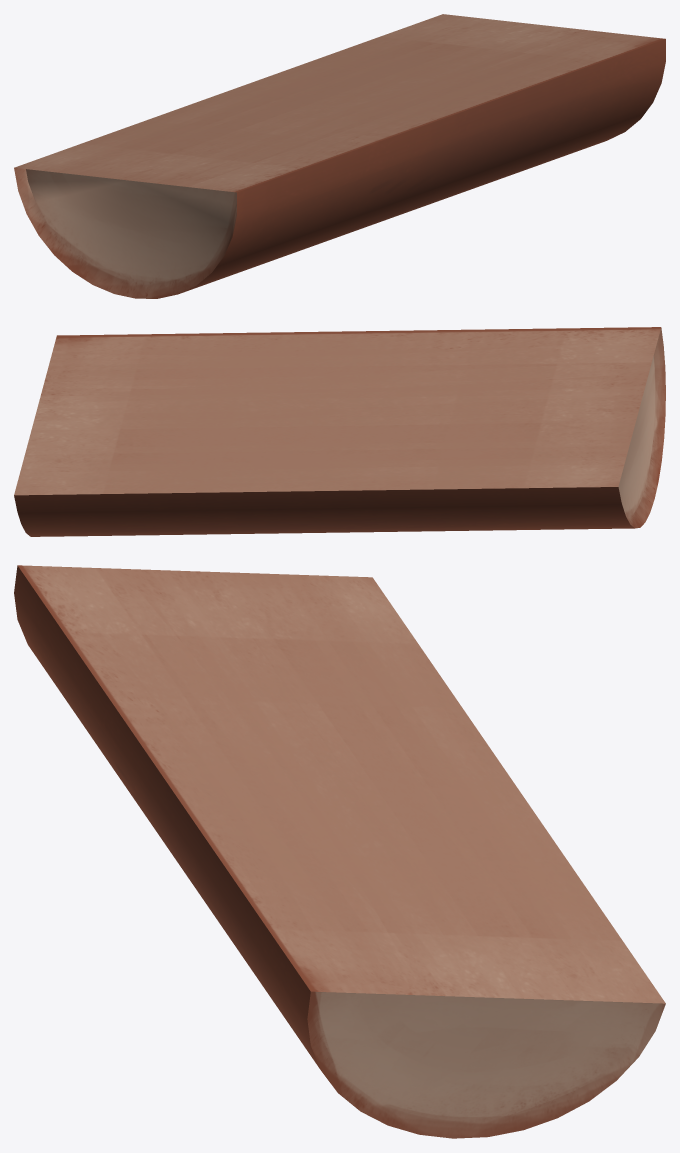
The model's file is HalfLog.fbx.
3 renders of one model, top to bottom at view 1: azimuth 30°, elevation 25°; view 2: azimuth 150°, elevation 25°; view 3: azimuth 270°, elevation 25°, orthographic. The views are drawn at different scales.
Parts seen in each view (by area): view 1: Log - medium.003; view 2: Log - medium.003; view 3: Log - medium.003.
Part boxes in pixels (<box>): Log - medium.003: <box>14,14,665,298</box>; Log - medium.003: <box>14,327,665,536</box>; Log - medium.003: <box>14,565,665,1138</box>.
Size of the model in its own units: 113 by 33.96 by 77.27.
